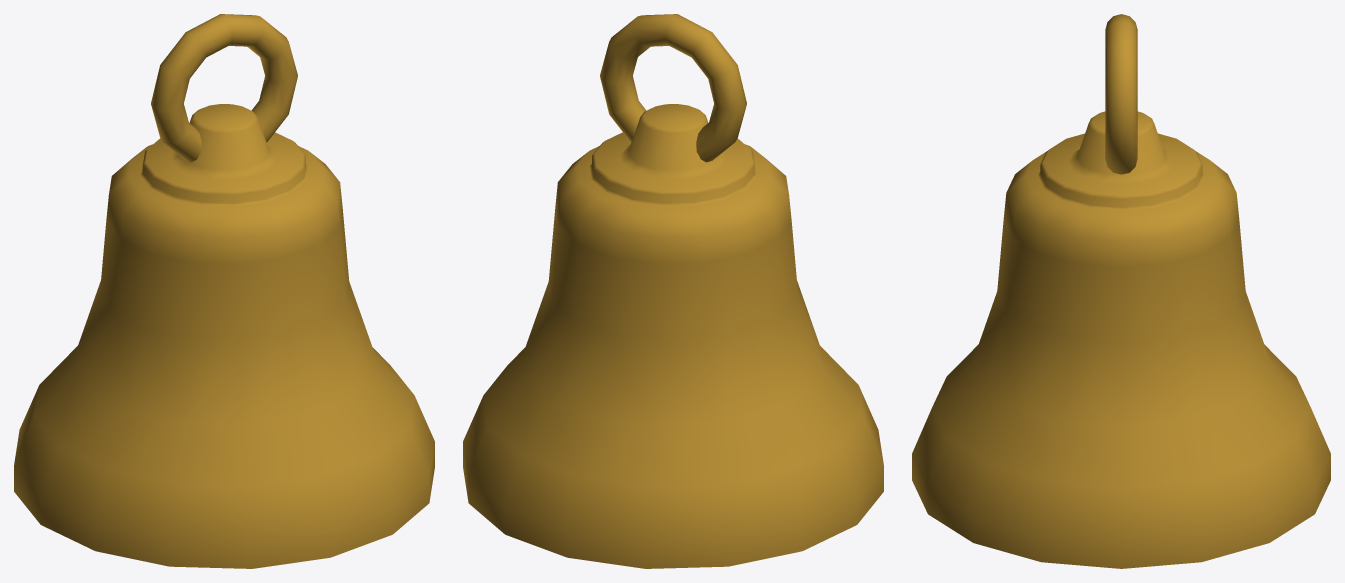
Rendered from Bell.fbx.
The picture shows the model from 3 angles, left to right: view 1: azimuth 30°, elevation 25°; view 2: azimuth 150°, elevation 25°; view 3: azimuth 270°, elevation 25°; orthographic projection.
Visible parts, largest first — view 1: Bell; view 2: Bell; view 3: Bell.
Part boxes in pixels (x1,y1,x2,y2): Bell: (14, 14, 434, 568); Bell: (463, 14, 883, 568); Bell: (912, 14, 1330, 568).
Size of the model in its own units: 11.66 by 14.19 by 11.66.
